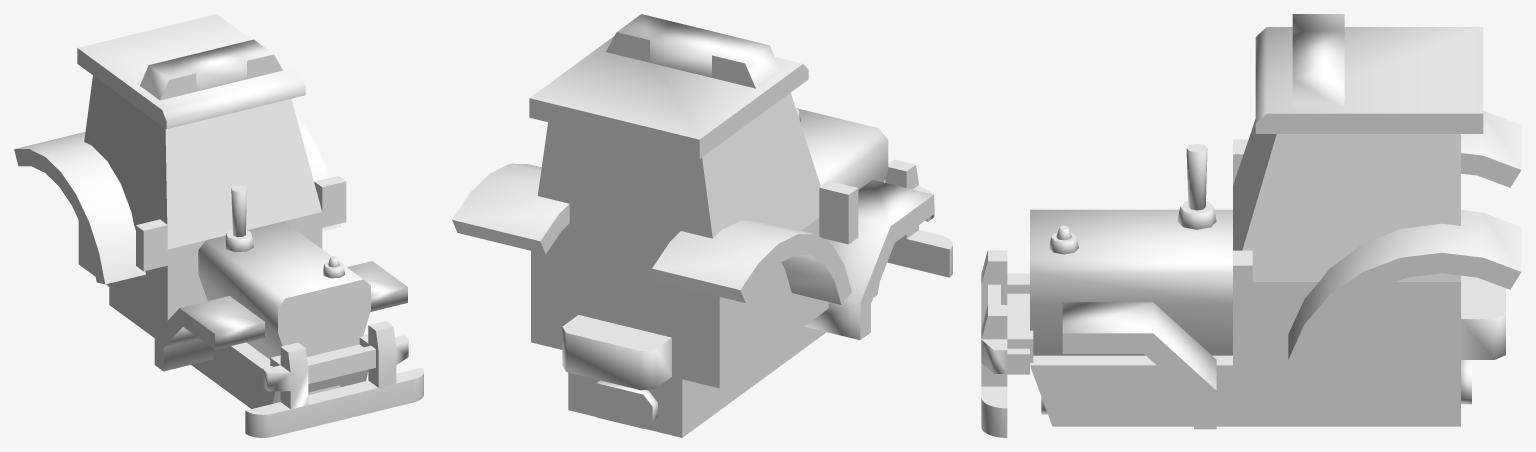
The model's file is cornwall-vehicle.glb.
3 views of the same model, side by side, from view 1: azimuth 30°, elevation 25°; view 2: azimuth 150°, elevation 25°; view 3: azimuth 270°, elevation 25° (orthographic). The views are drawn at different scales.
Visible parts, largest first — view 1: cornwall-vehicle; view 2: cornwall-vehicle; view 3: cornwall-vehicle.
Boxes of the visible parts, x1,y1,x2,y2 form: cornwall-vehicle: (14,14,423,437); cornwall-vehicle: (452,14,952,437); cornwall-vehicle: (981,14,1521,437).
Bounding box in the file's own units: 1.34 × 1.51 × 2.08.
Materials: 1 (1 with a texture image).
